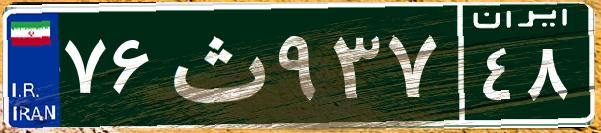3: (330, 28, 385, 110)
4: (475, 38, 525, 113)
6: (110, 28, 158, 105)
7: (385, 28, 445, 110), (57, 26, 110, 107)
8: (525, 38, 570, 115)
9: (273, 28, 330, 110)
ث: (158, 15, 273, 115)
